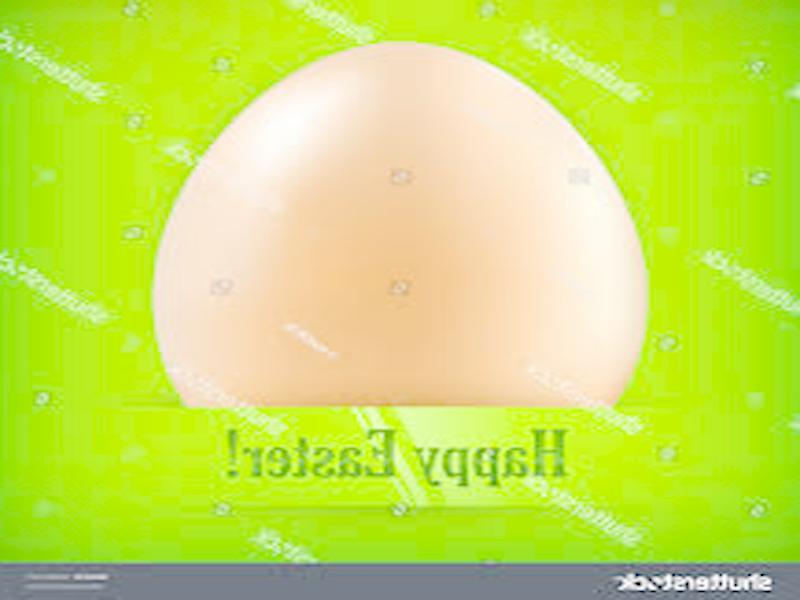Eggs: (154, 41, 644, 406)
